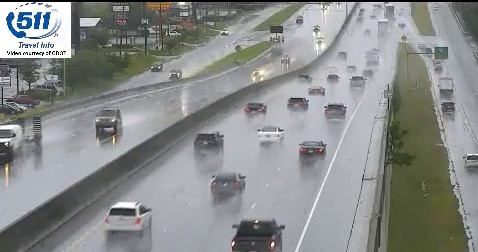car: (232, 220, 282, 252), (105, 202, 153, 233), (211, 172, 246, 195), (194, 132, 223, 152), (257, 126, 284, 143), (299, 141, 326, 157), (244, 102, 267, 118), (324, 103, 346, 119), (287, 97, 308, 111)
